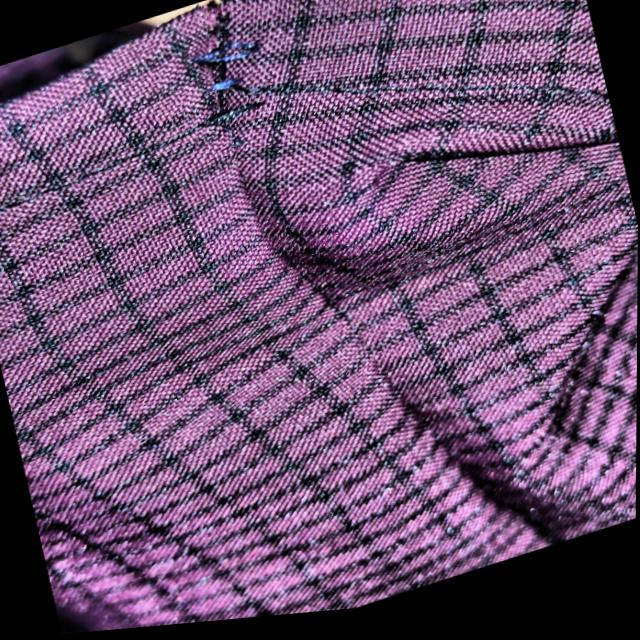Stitch: (163, 13, 302, 151)
